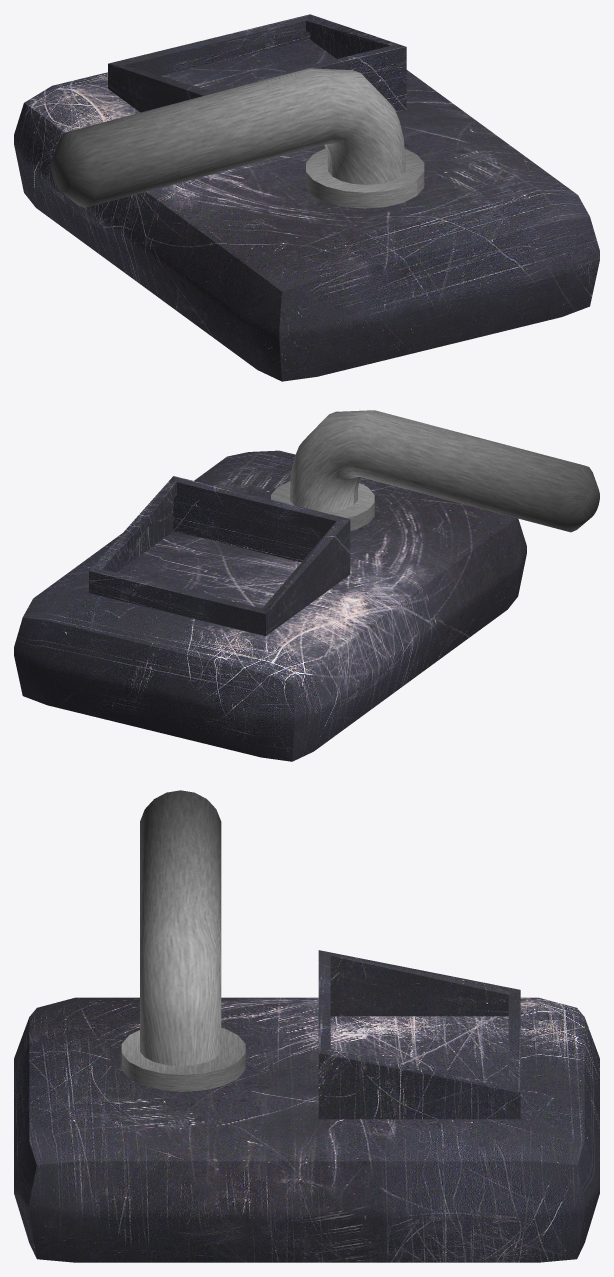
File: Scanner.fbx
3 renders of one model, top to bottom at view 1: azimuth 30°, elevation 25°; view 2: azimuth 150°, elevation 25°; view 3: azimuth 270°, elevation 25°, orthographic. The views are drawn at different scales.
Visible parts, largest first — view 1: Box001, Cylinder002; view 2: Box001, Cylinder002; view 3: Box001, Cylinder002.
Boxes of the visible parts, x1,y1,x2,y2 form: Box001: (14,14,599,381); Cylinder002: (51,68,405,207); Box001: (14,450,526,761); Cylinder002: (290,410,599,532); Box001: (14,950,599,1262); Cylinder002: (140,790,221,1065).
Size of the model in its own units: 48.42 by 22.7 by 48.89.
Materials: 2 (2 with a texture image).
